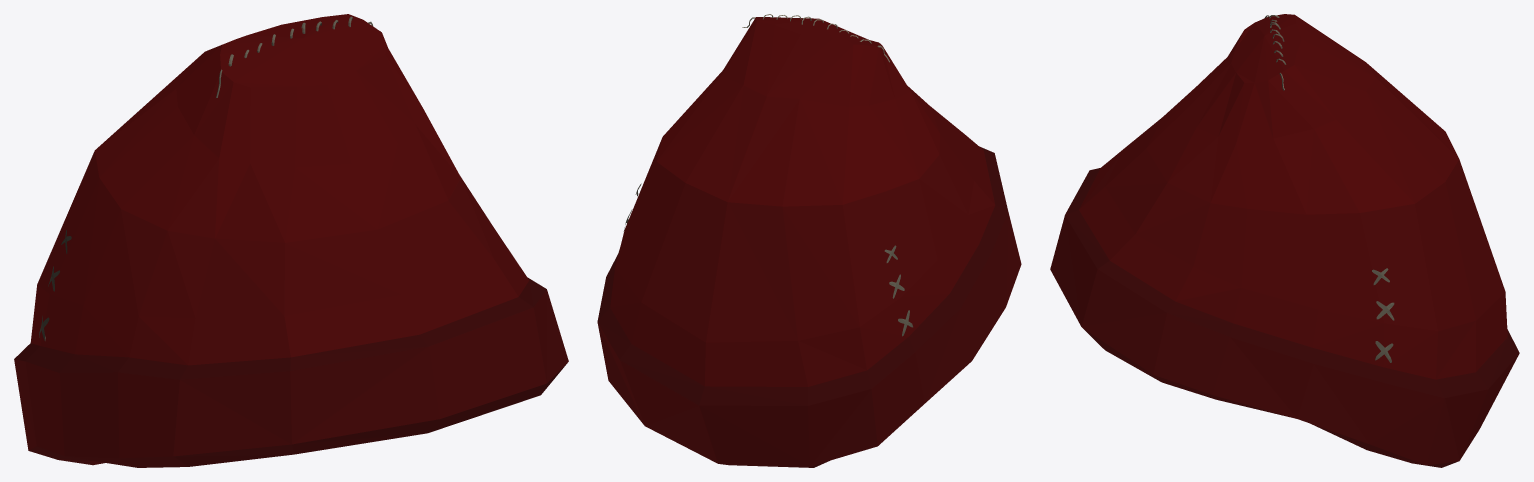
Rendered from smallHatColoredFemale.glb.
3 renders of one model, left to right at view 1: azimuth 30°, elevation 25°; view 2: azimuth 150°, elevation 25°; view 3: azimuth 270°, elevation 25°, orthographic. The views are drawn at different scales.
Parts seen in each view (by area): view 1: smallHatColored; view 2: smallHatColored; view 3: smallHatColored.
Boxes of the visible parts, bbox=[...] form: smallHatColored: bbox=[14, 14, 568, 467]; smallHatColored: bbox=[597, 14, 1021, 467]; smallHatColored: bbox=[1050, 14, 1519, 467].
Bounding box in the file's own units: 0.2587 × 0.2837 × 0.2954.
